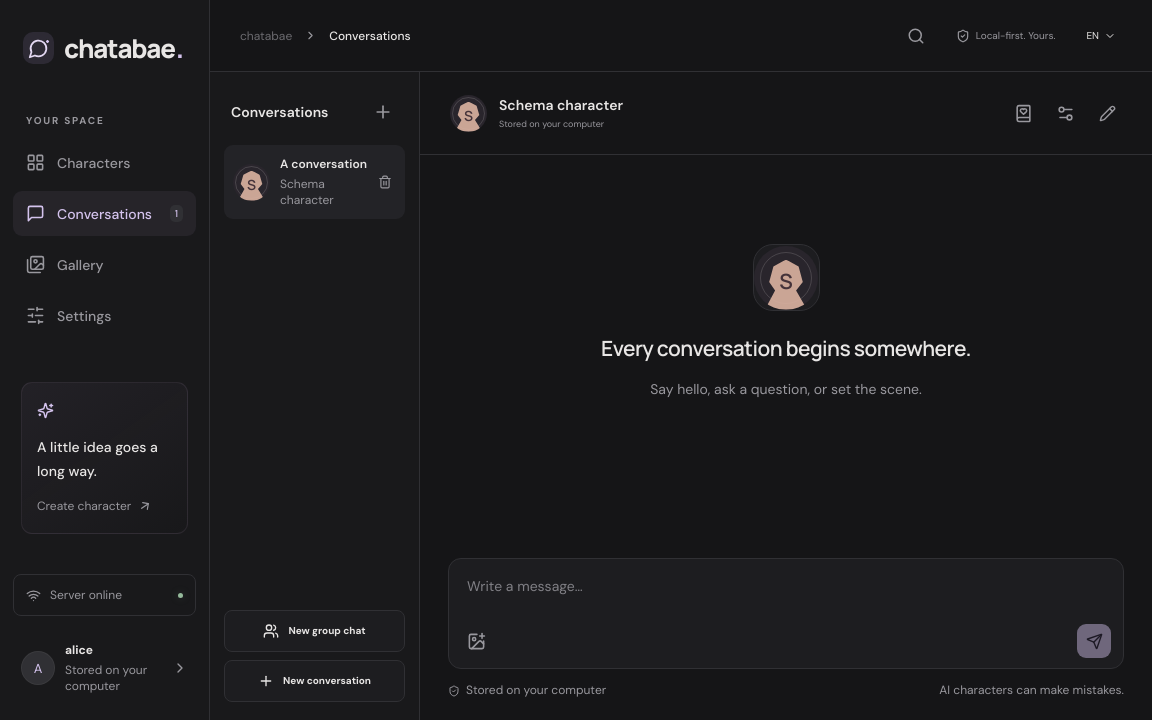
Test case: character space › locks image format to the stable character reference portrait
Click the button named "Create image" at {"x": 476, "y": 641}, box [461, 626, 491, 656]
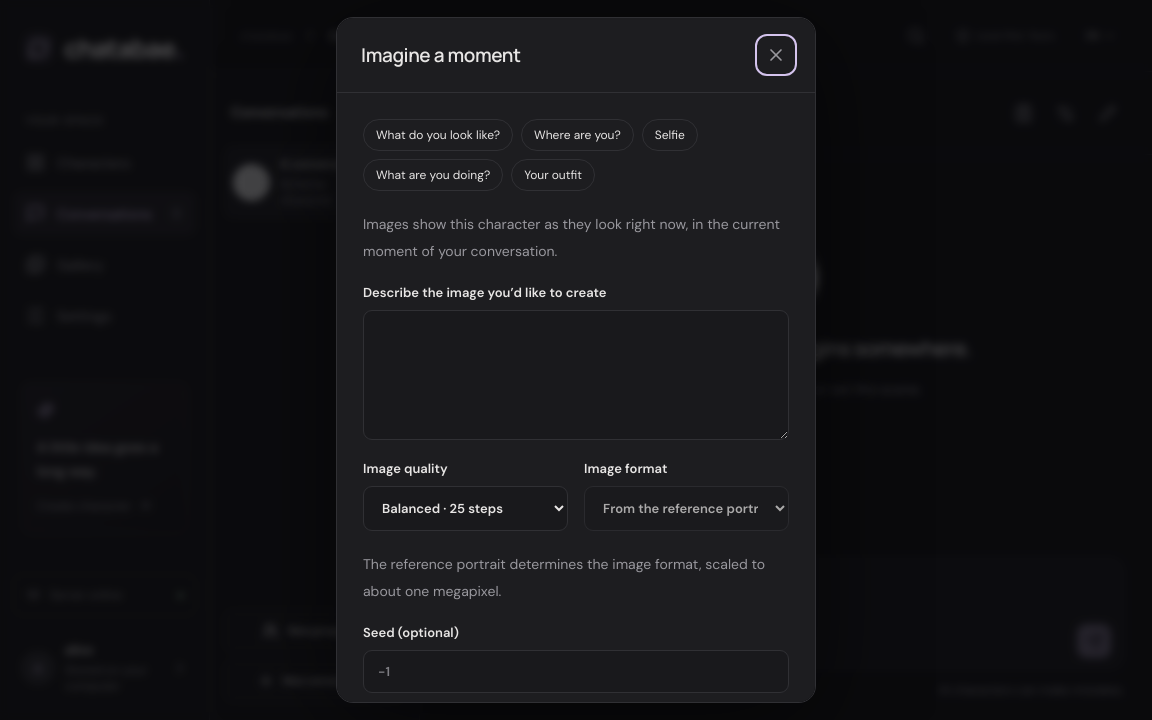
Now the dropdown labelled "Image format" is disabled, box [584, 486, 789, 531]
Now the text "reference portrait determines" is shown, box [363, 555, 765, 600]
